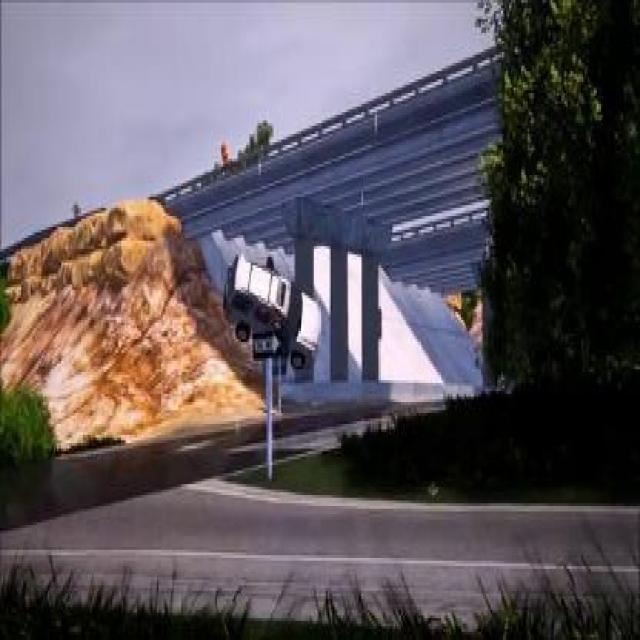accident: (225, 243, 322, 369)
